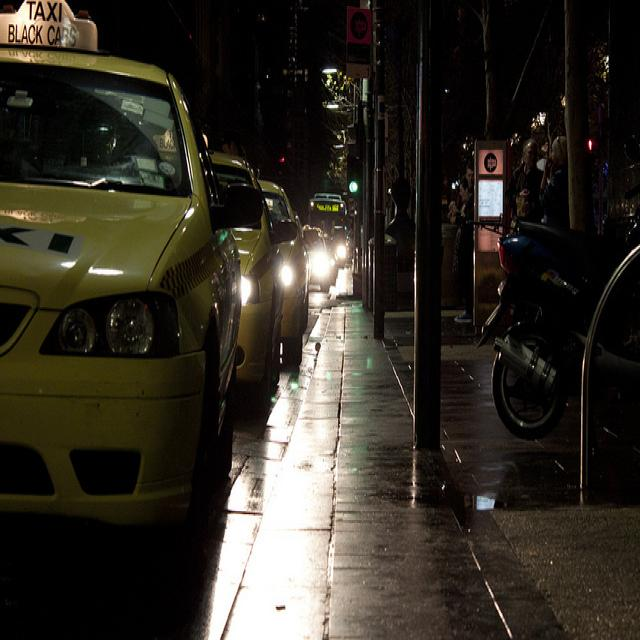Motorbike: (484, 194, 640, 424)
car: (0, 32, 231, 585), (183, 123, 283, 412), (247, 164, 319, 373)
